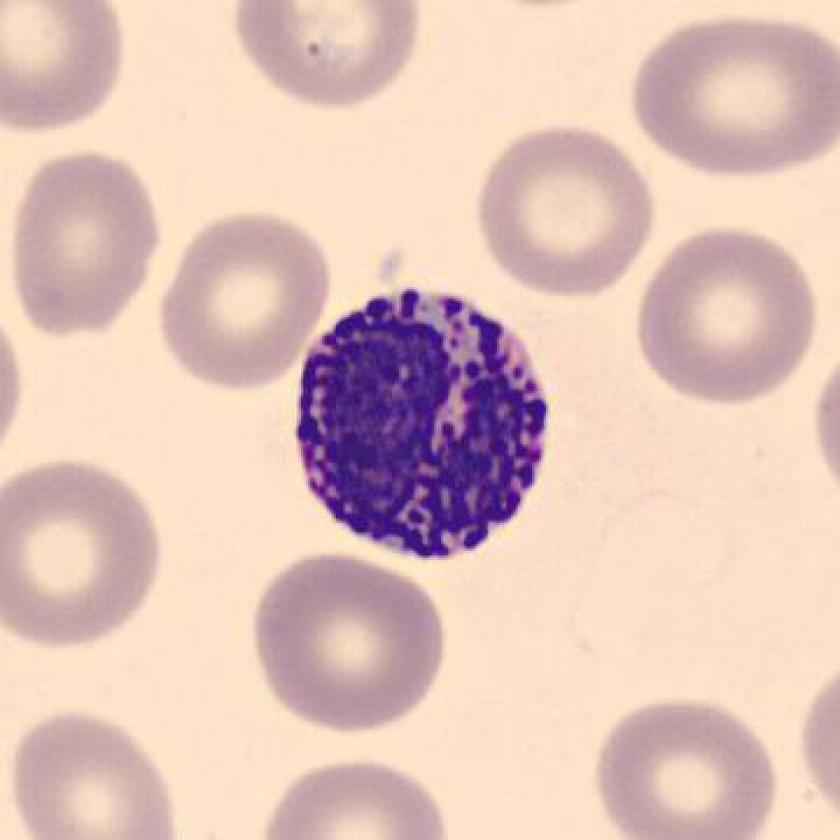basophil: (290, 281, 566, 568)
